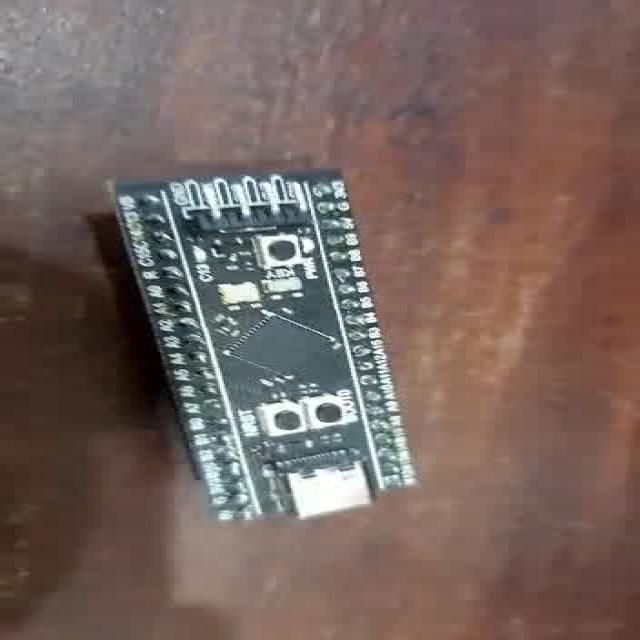stm32: (118, 180, 422, 528)
